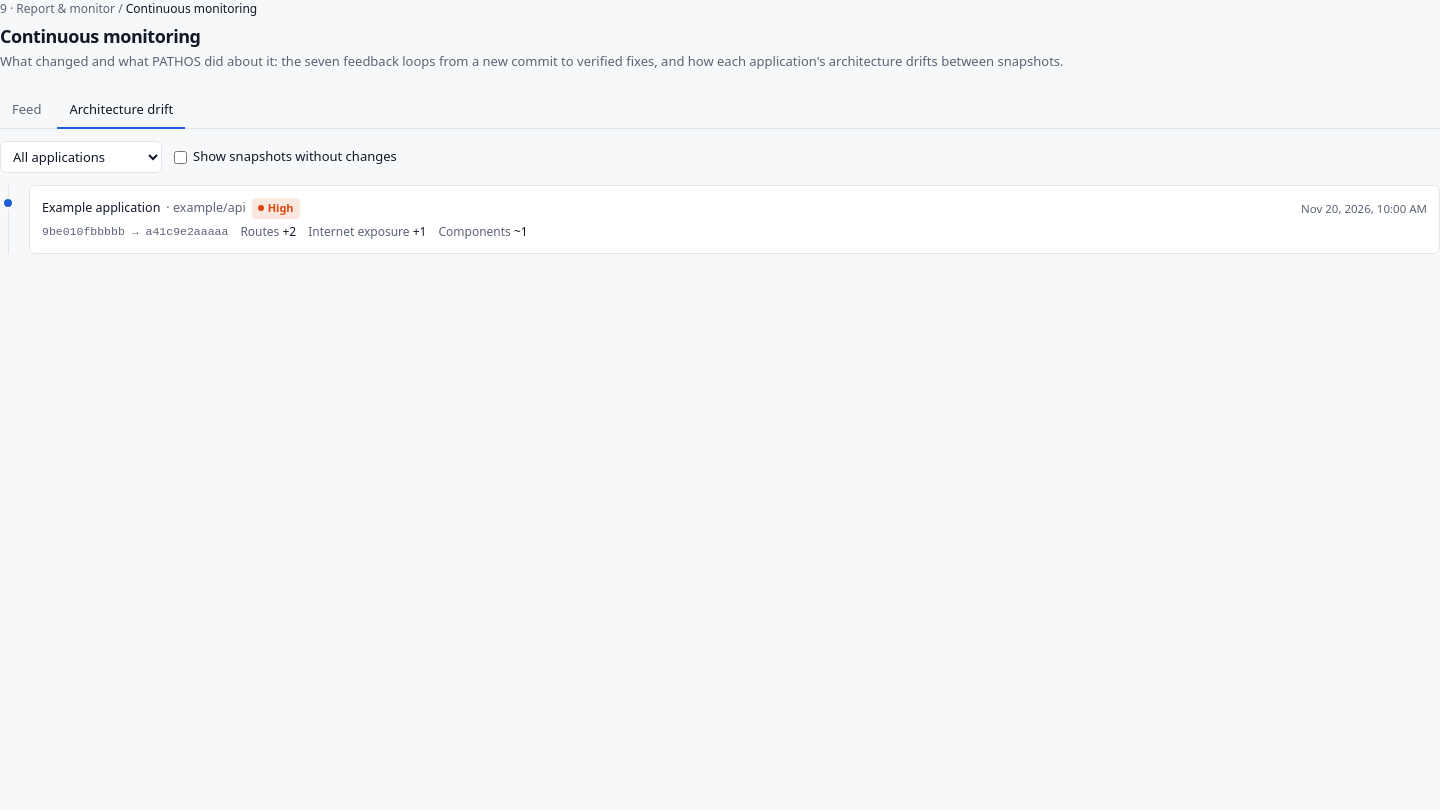
Test: continuous monitoring page › shows the drift timeline and opens the detail drawer with evidence and the CodeGraph comparison
The width and height of the screenshot is (1440, 810).
Later steps or results of the test are not shown.
Click the button: (101, 207) [29,185,1439,254]
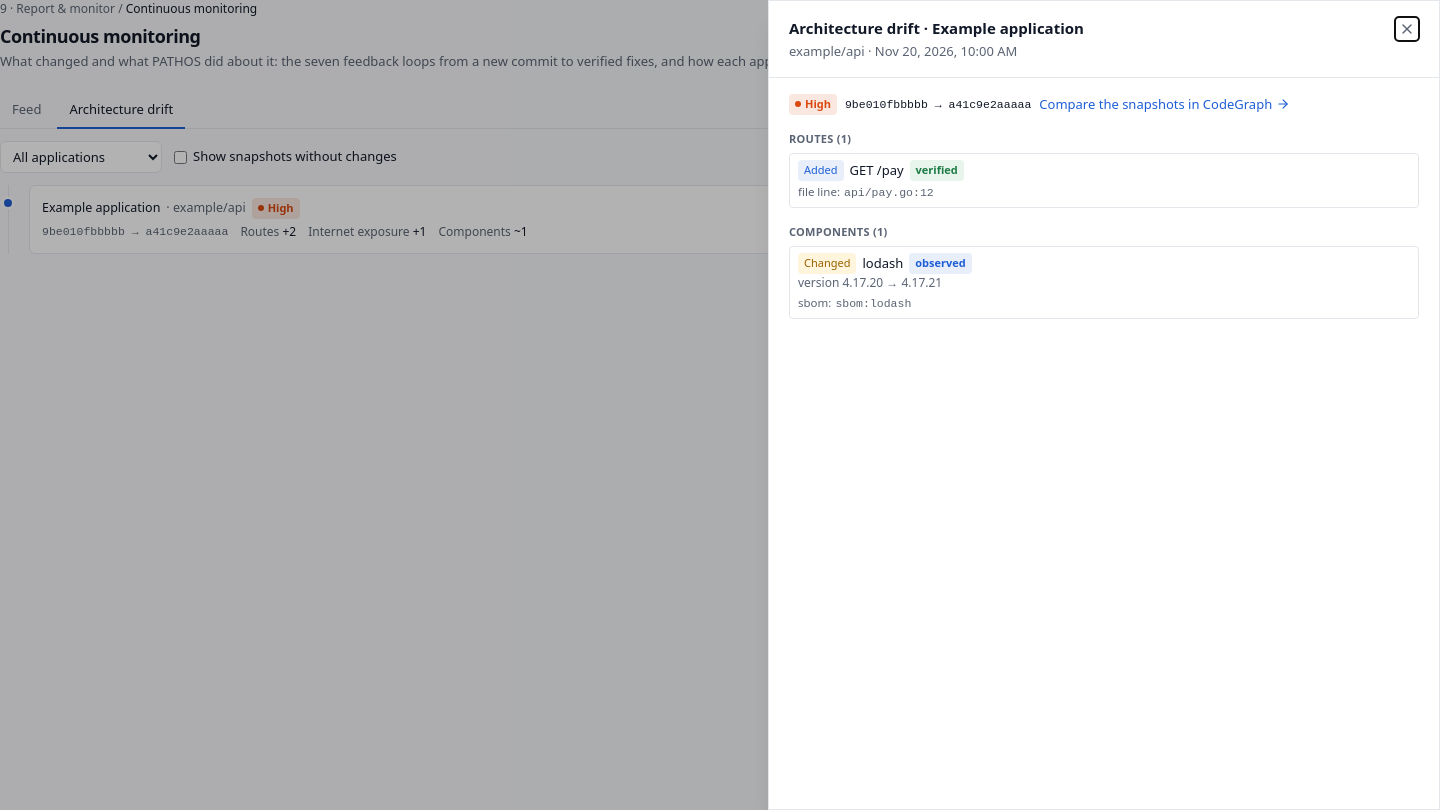
Expected: the element "Routes" shows "GET /pay", [850,160,904,178]
Expected: the text "api/pay.go:12" is shown, [844,186,934,198]
Expected: the text "observed" is shown, [909,253,972,274]
